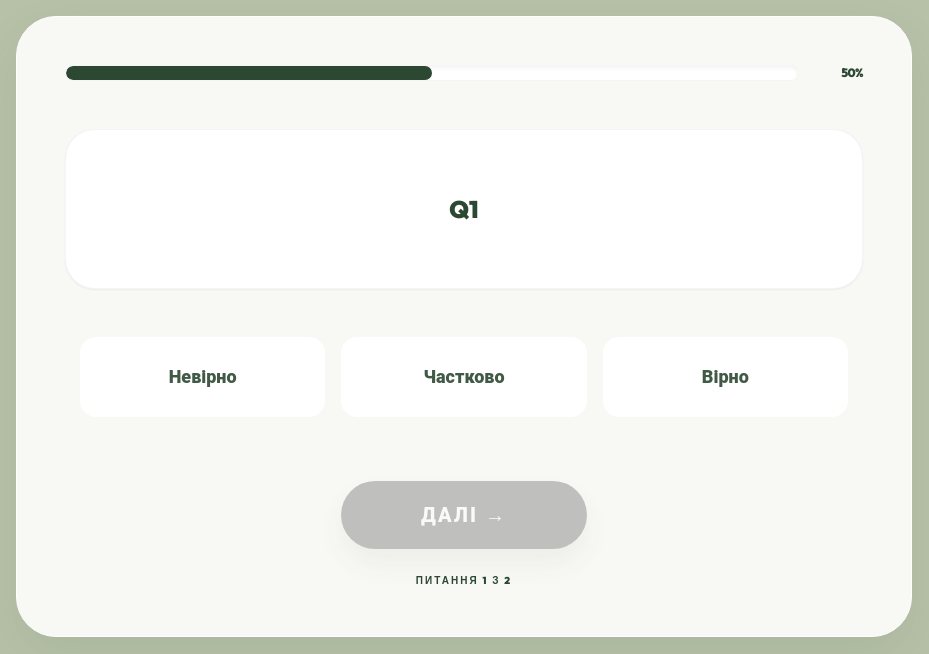
Test: SDQTest › finishes test and shows success screen
Click the button "Невірно": [203, 377] box top-left (80, 337), bottom-right (325, 417)
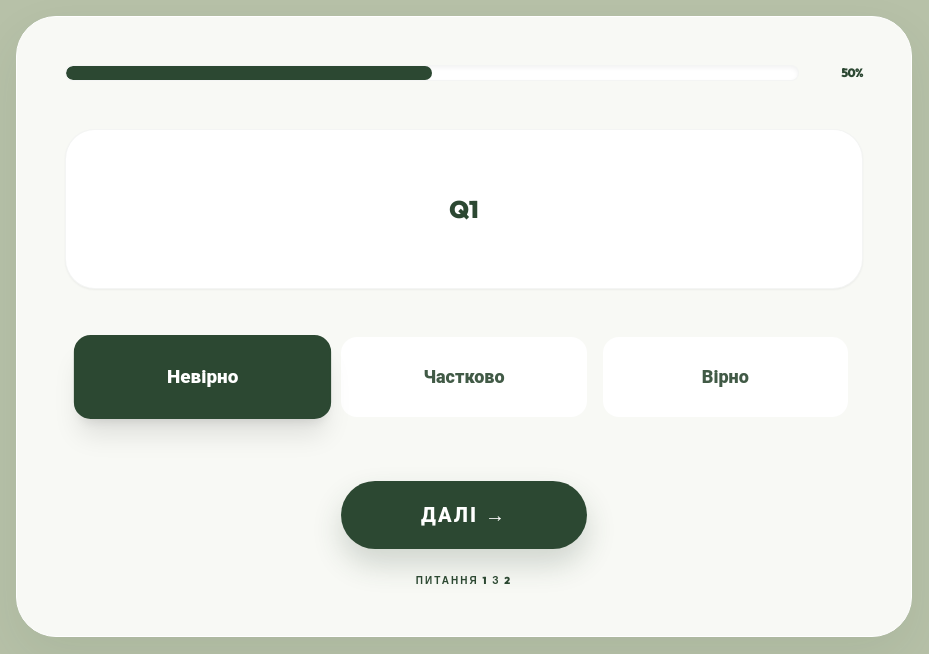
Click the button "Далі →": [464, 515] box top-left (341, 481), bottom-right (587, 549)
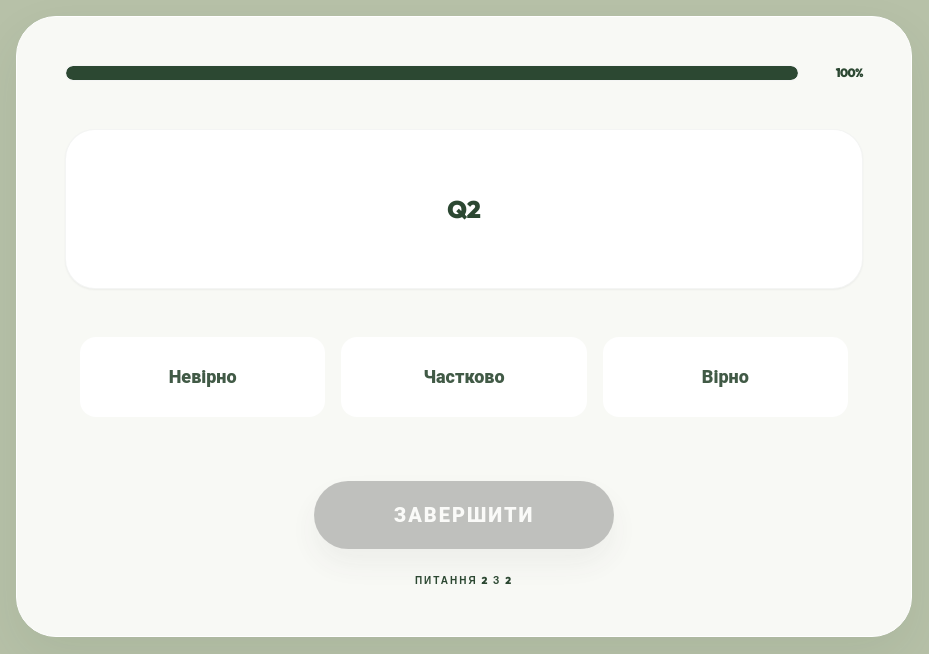
Expected: the heading "Q2" is shown, top-left (447, 193), bottom-right (481, 225)
Click the button "Частково": [464, 377] box top-left (341, 337), bottom-right (587, 417)
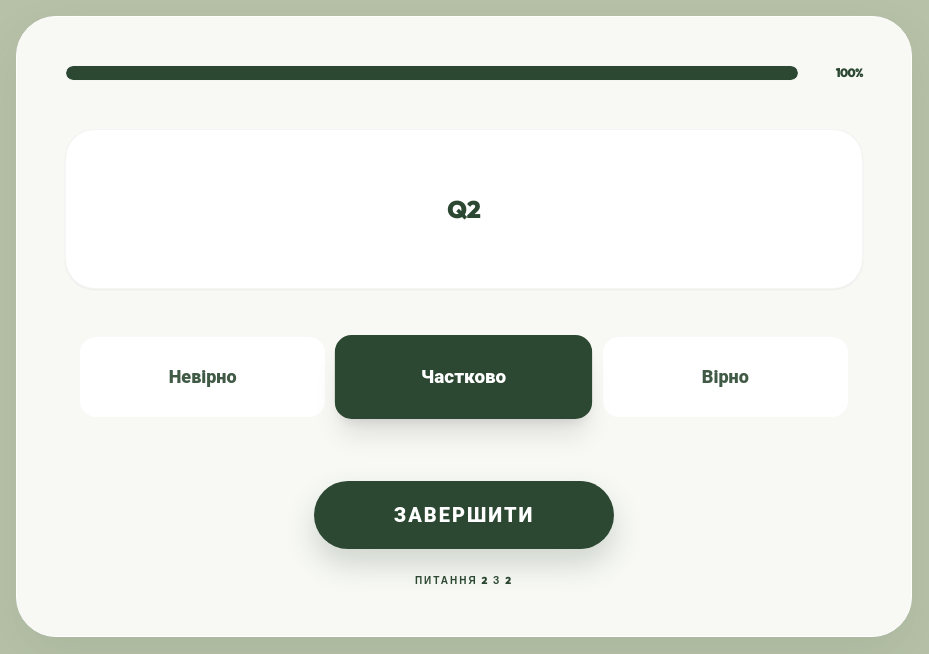
Click the button "Завершити": [464, 515] box top-left (314, 481), bottom-right (614, 549)
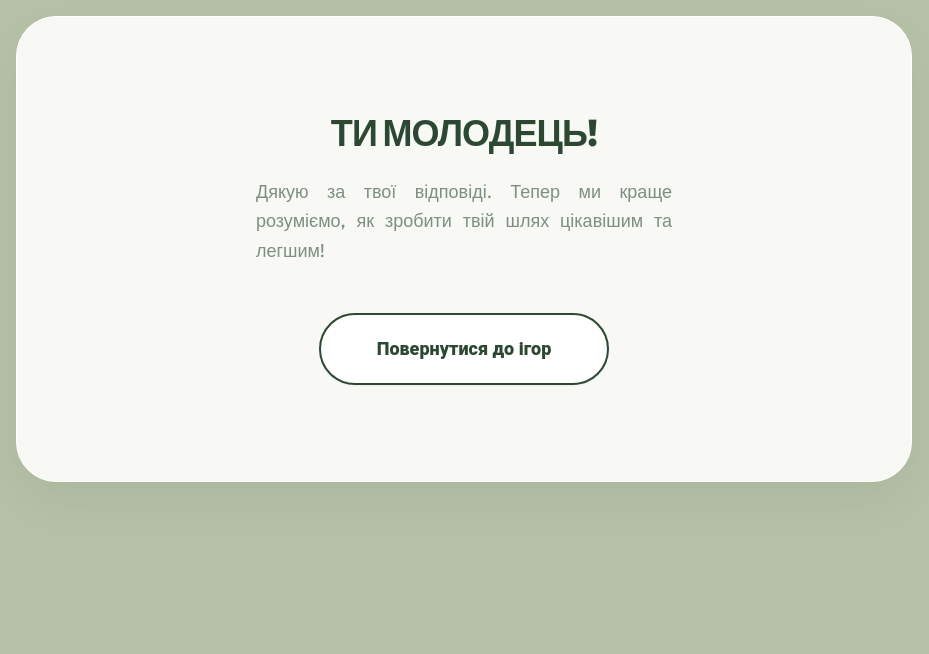
Expected: the heading "Ти молодець!" is shown, top-left (331, 113), bottom-right (597, 153)
